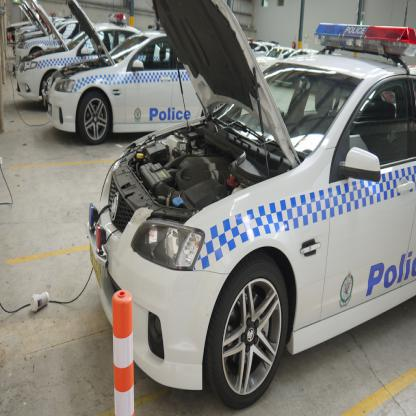Car: (5, 0, 415, 408)
